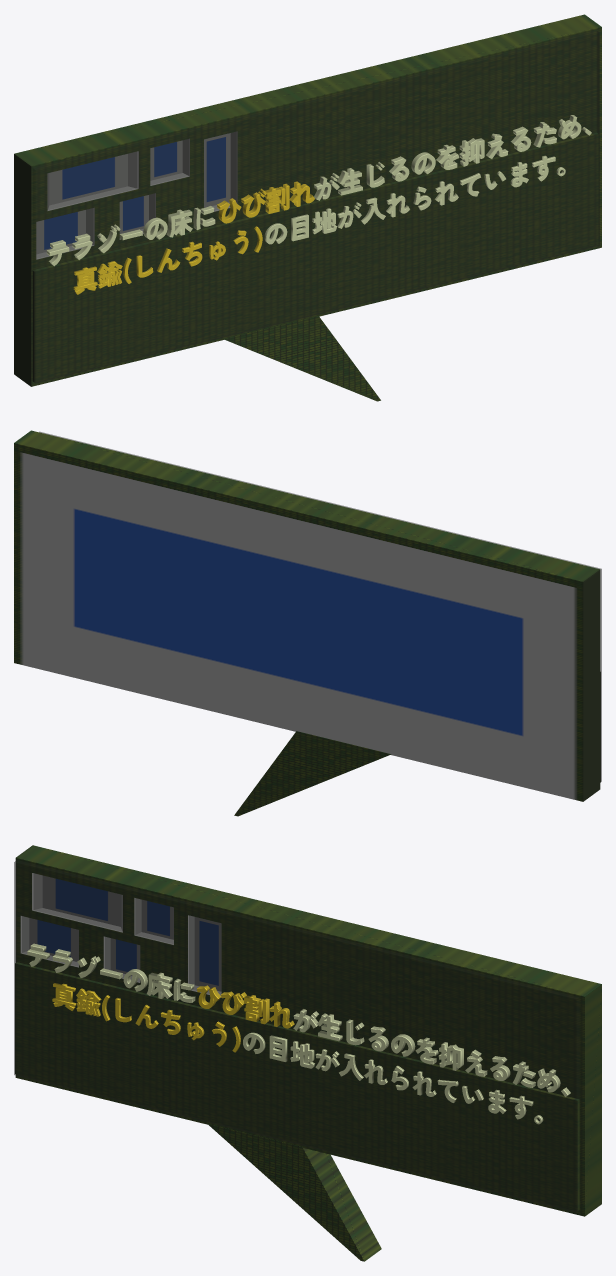
The model's file is cfukidasi-yuka.glb.
3 views of the same model, one above another, from view 1: azimuth 30°, elevation 25°; view 2: azimuth 150°, elevation 25°; view 3: azimuth 330°, elevation 25° (orthographic).
Parts seen in each view (by area): view 1: 立方体.003, 立方体, 立方体.002, テキスト, 立方体.001; view 2: 立方体, 立方体.001, 立方体.003; view 3: 立方体.003, 立方体, 立方体.002, テキスト, 立方体.001.
Boxes of the visible parts, left/top/right/bottom form: 立方体.003: left=33, top=30, right=599, bottom=383; 立方体: left=14, top=14, right=601, bottom=386; 立方体.002: left=32, top=132, right=598, bottom=382; テキスト: left=46, top=115, right=591, bottom=294; 立方体.001: left=223, top=316, right=380, bottom=401; 立方体: left=14, top=430, right=600, bottom=801; 立方体.001: left=234, top=731, right=391, bottom=816; 立方体.003: left=39, top=431, right=601, bottom=781; 立方体.003: left=14, top=860, right=579, bottom=1212; 立方体: left=15, top=845, right=601, bottom=1216; 立方体.002: left=15, top=962, right=579, bottom=1211; テキスト: left=27, top=943, right=570, bottom=1124; 立方体.001: left=207, top=1123, right=381, bottom=1261.
Size of the model in its own units: 11.96 by 6.4 by 0.7575.
6 materials, 3 textured.
